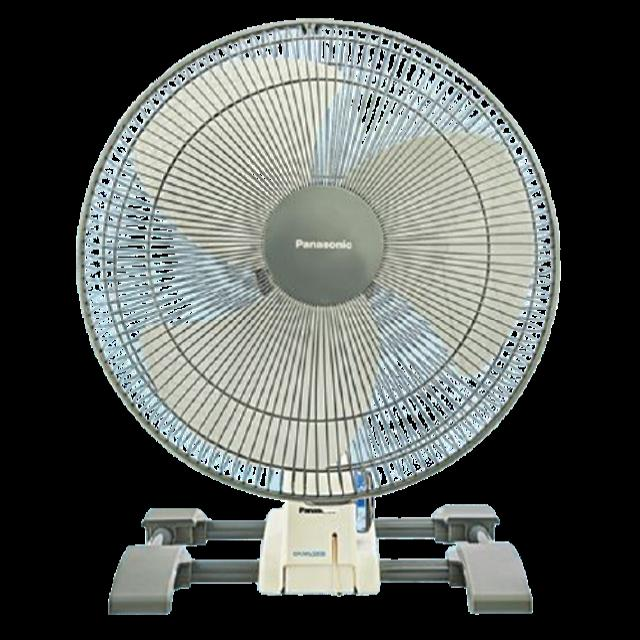fan: (77, 19, 563, 613)
